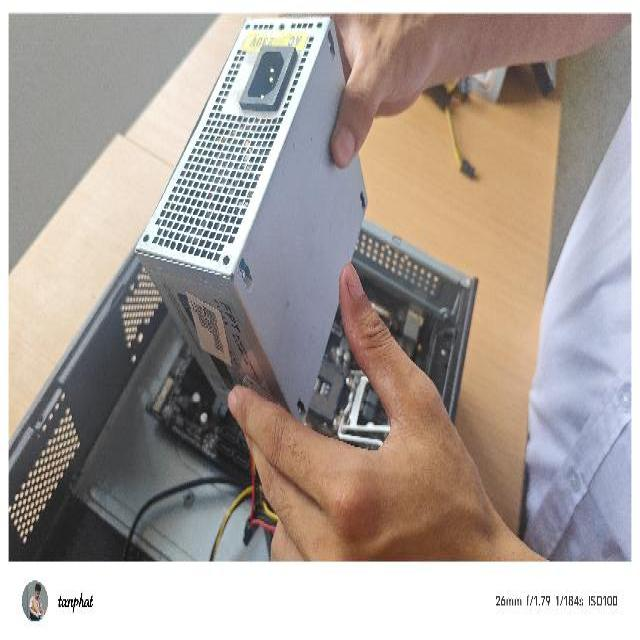PSU: (134, 13, 370, 439)
